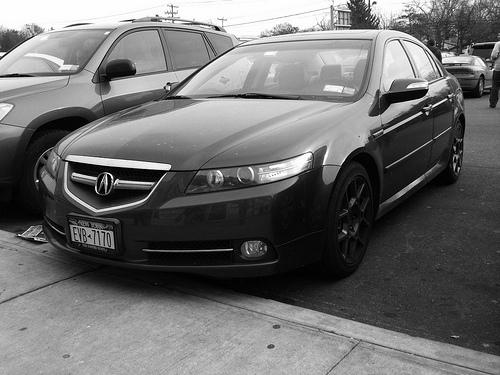car: (39, 29, 470, 286)
